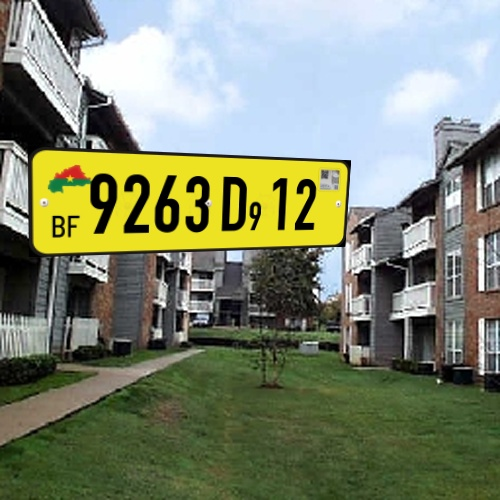plate: (18, 130, 357, 277)
